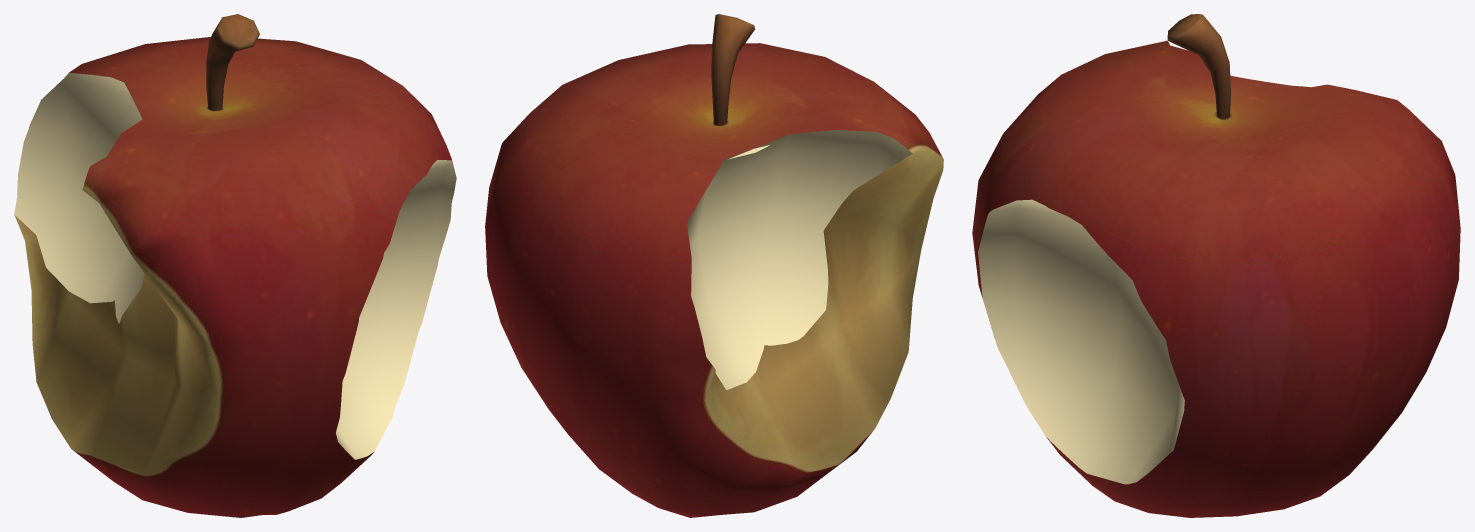
Rendered from apple-eaten-3.glb.
3 views of the same model, side by side, from view 1: azimuth 30°, elevation 25°; view 2: azimuth 150°, elevation 25°; view 3: azimuth 270°, elevation 25° (orthographic). The views are drawn at different scales.
Parts seen in each view (by area): view 1: apple-eaten-3; view 2: apple-eaten-3; view 3: apple-eaten-3.
Boxes of the visible parts, bbox=[...] form: apple-eaten-3: bbox=[14, 14, 456, 517]; apple-eaten-3: bbox=[485, 14, 943, 517]; apple-eaten-3: bbox=[972, 14, 1460, 517].
Bounding box in the file's own units: 0.8351 × 1 × 0.9276.
Materials: 2 (1 with a texture image).
